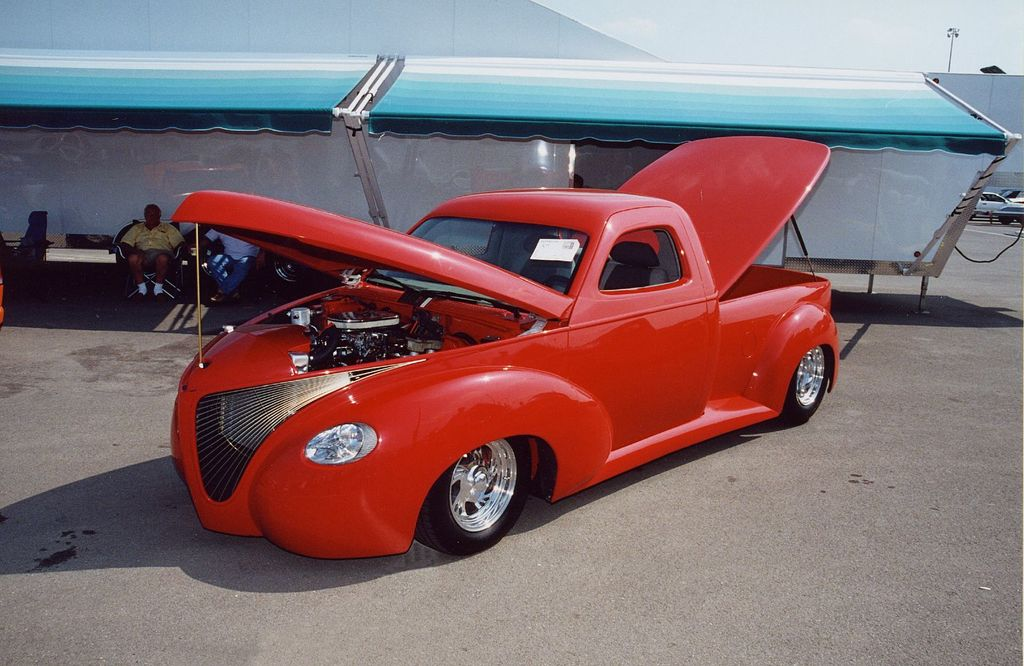mobil: (170, 223, 897, 560)
